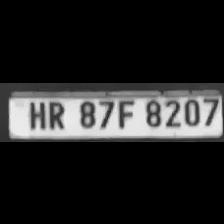0: (182, 96, 200, 126)
2: (161, 95, 181, 127)
7: (96, 97, 114, 129), (201, 94, 219, 125)
8: (72, 97, 96, 129), (141, 96, 163, 127)
F: (114, 97, 136, 129)
H: (24, 99, 46, 129)
R: (44, 98, 68, 130)
